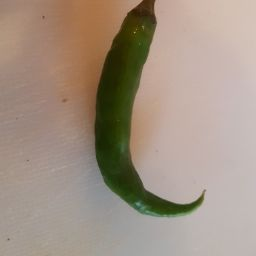Green chilli: (110, 1, 210, 218), (111, 27, 205, 220), (83, 11, 155, 214)
